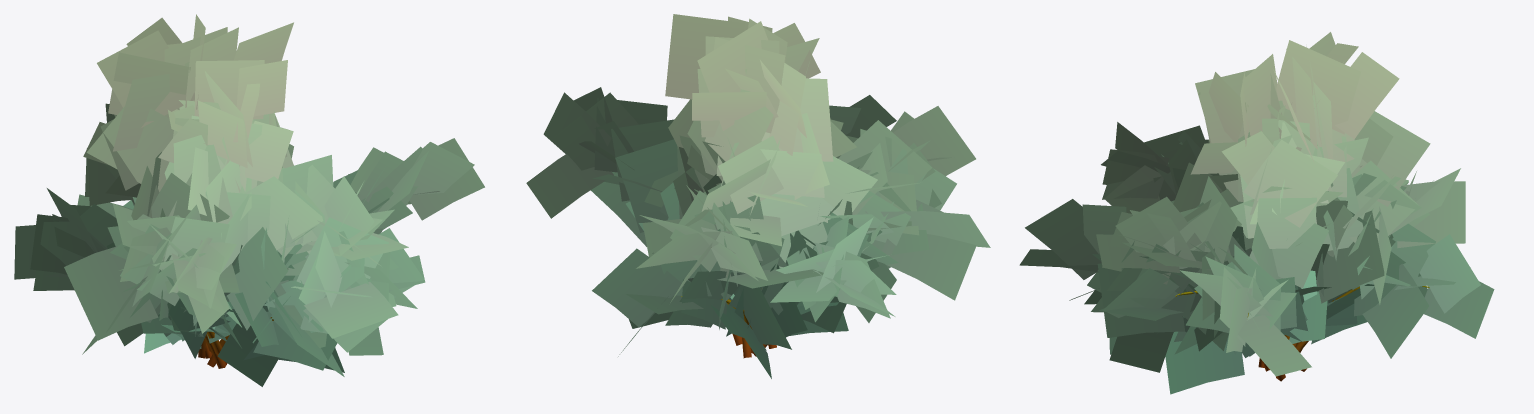
File: juniper.glb
3 renders of one model, left to right at view 1: azimuth 30°, elevation 25°; view 2: azimuth 150°, elevation 25°; view 3: azimuth 270°, elevation 25°, orthographic. The views are drawn at different scales.
Visible parts, largest first — view 1: LOD0; view 2: LOD0; view 3: LOD0.
Boxes of the visible parts, x1,y1,x2,y2 form: LOD0: [14, 14, 484, 386]; LOD0: [526, 14, 990, 378]; LOD0: [1019, 32, 1494, 394].
Size of what is drawn, in the model's own units: 2.91 by 2.23 by 3.02.
